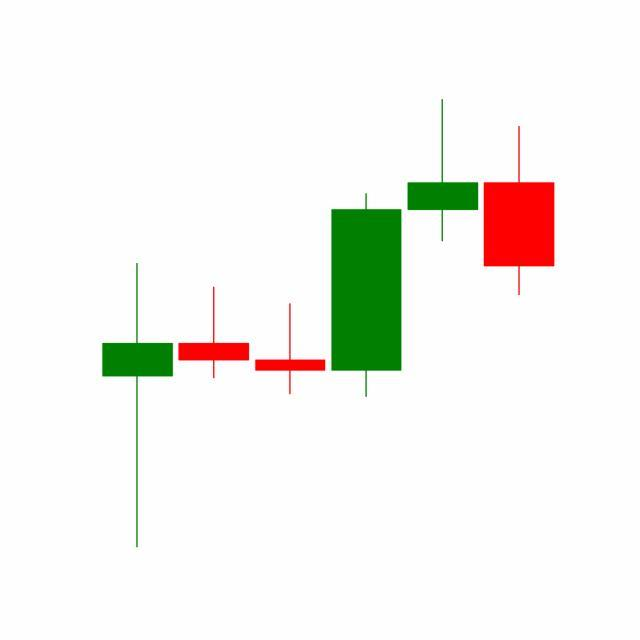Spinning Top: (404, 98, 482, 244)
